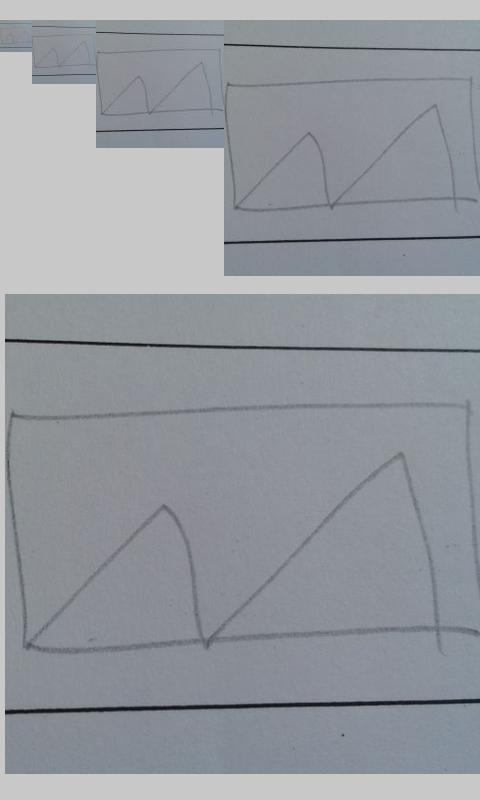image_view: (4, 398, 480, 657), (223, 76, 480, 213), (96, 44, 222, 118), (32, 33, 96, 69), (1, 26, 31, 46)
